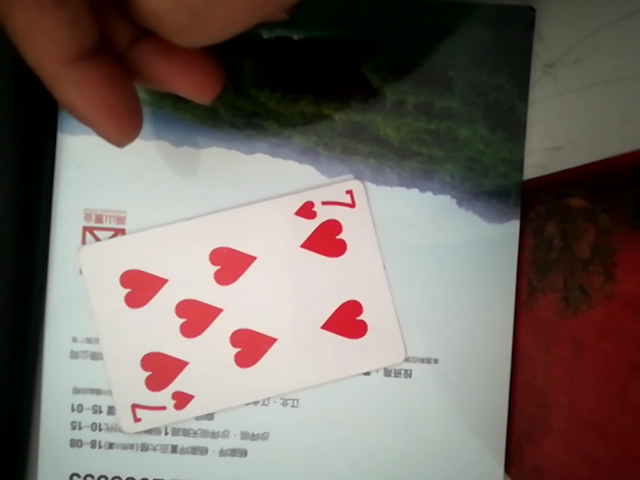hx 7: (86, 178, 409, 434)
